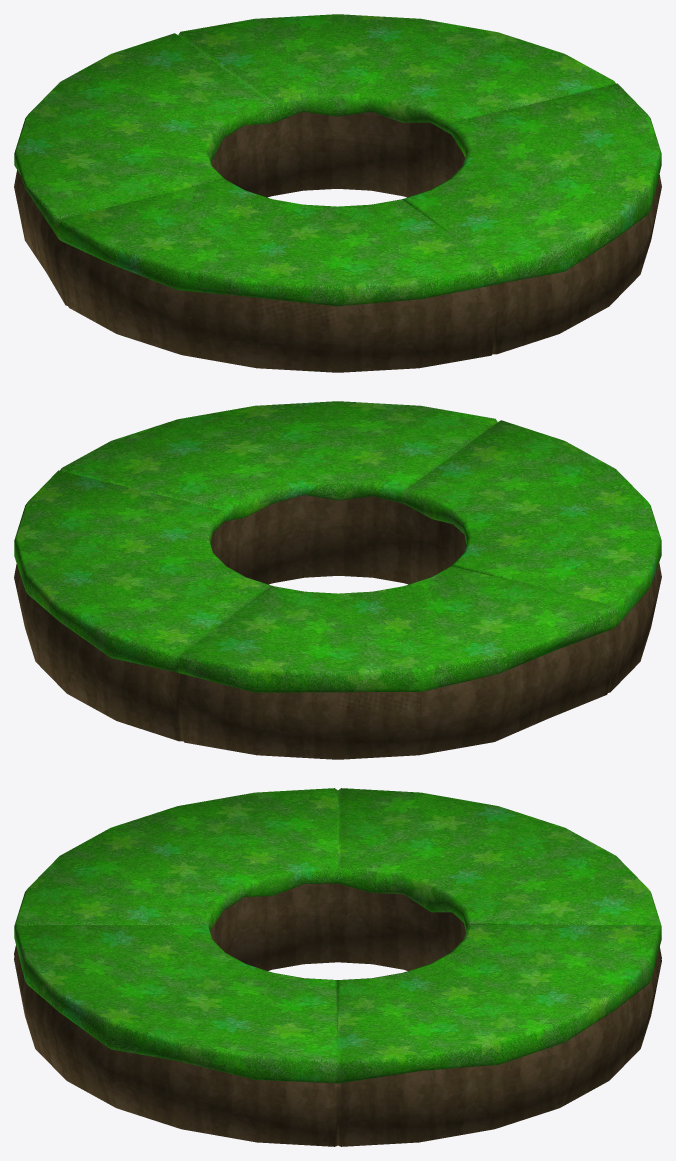
File: HikeGardenTicoRotatePlanet.fbx
3 renders of one model, top to bottom at view 1: azimuth 30°, elevation 25°; view 2: azimuth 150°, elevation 25°; view 3: azimuth 270°, elevation 25°, orthographic.
Visible parts, largest first — view 1: Circle.000, Circle.001; view 2: Circle.000, Circle.001; view 3: Circle.000, Circle.001.
Boxes of the visible parts, box(x1,y1,x2,y2) form: Circle.000: box(14, 14, 661, 306); Circle.001: box(14, 112, 661, 372); Circle.000: box(14, 401, 661, 692); Circle.001: box(14, 495, 661, 759); Circle.000: box(14, 788, 661, 1083); Circle.001: box(14, 883, 661, 1146).
Bounding box in the file's own units: 225728 × 36589 × 225728.
2 materials, 2 textured.
